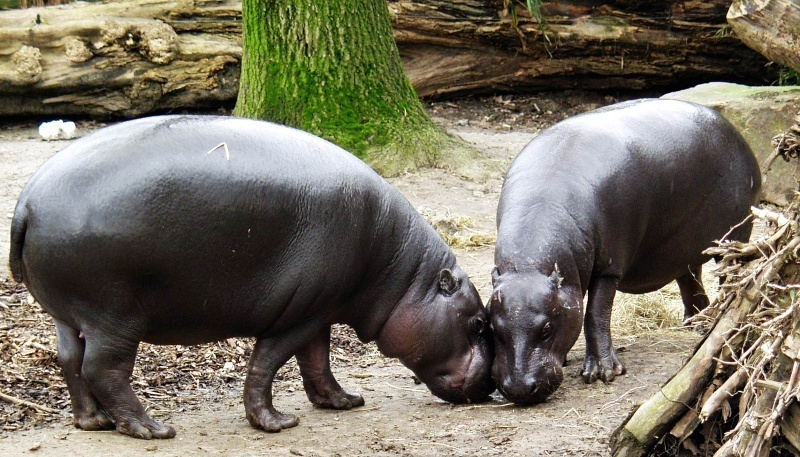hipopotamo: (5, 104, 502, 436), (486, 83, 767, 416)
